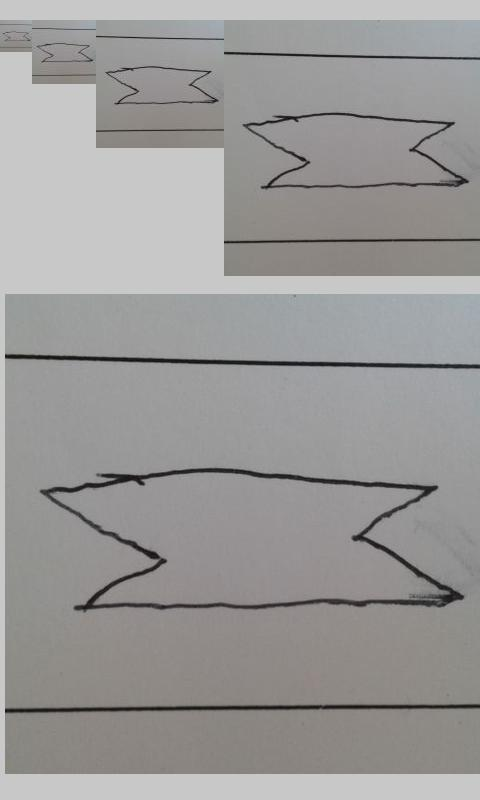edit_text: (39, 463, 462, 617), (245, 111, 469, 189), (106, 65, 219, 105), (36, 42, 93, 63), (3, 31, 31, 42)
